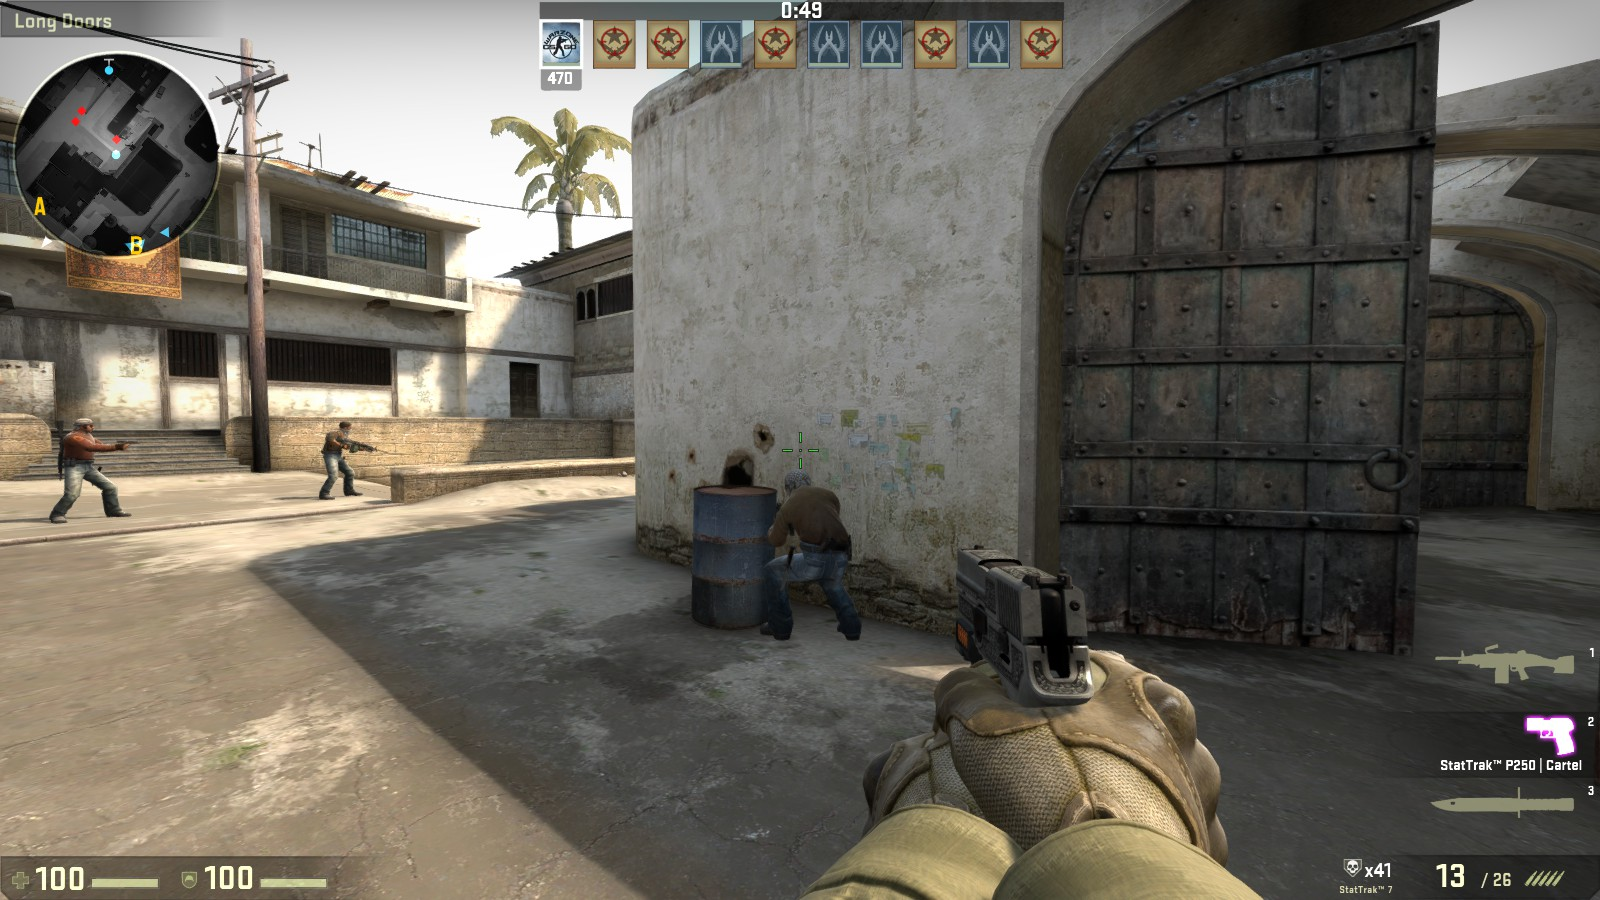t: (754, 462, 862, 635), (55, 407, 120, 522), (320, 418, 357, 498)
th: (774, 465, 818, 505), (65, 415, 101, 437), (332, 421, 357, 437)
